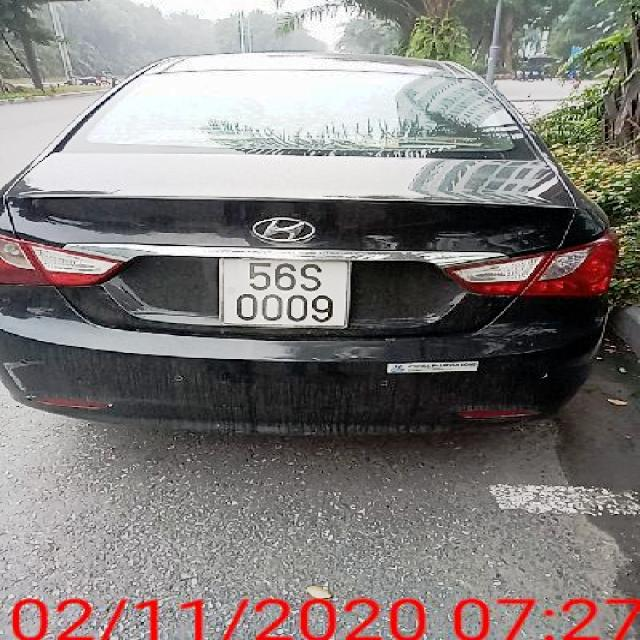license_plate: (223, 261, 350, 327)
